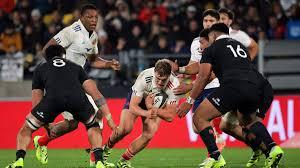ballon_rugby: (148, 92, 168, 113)
